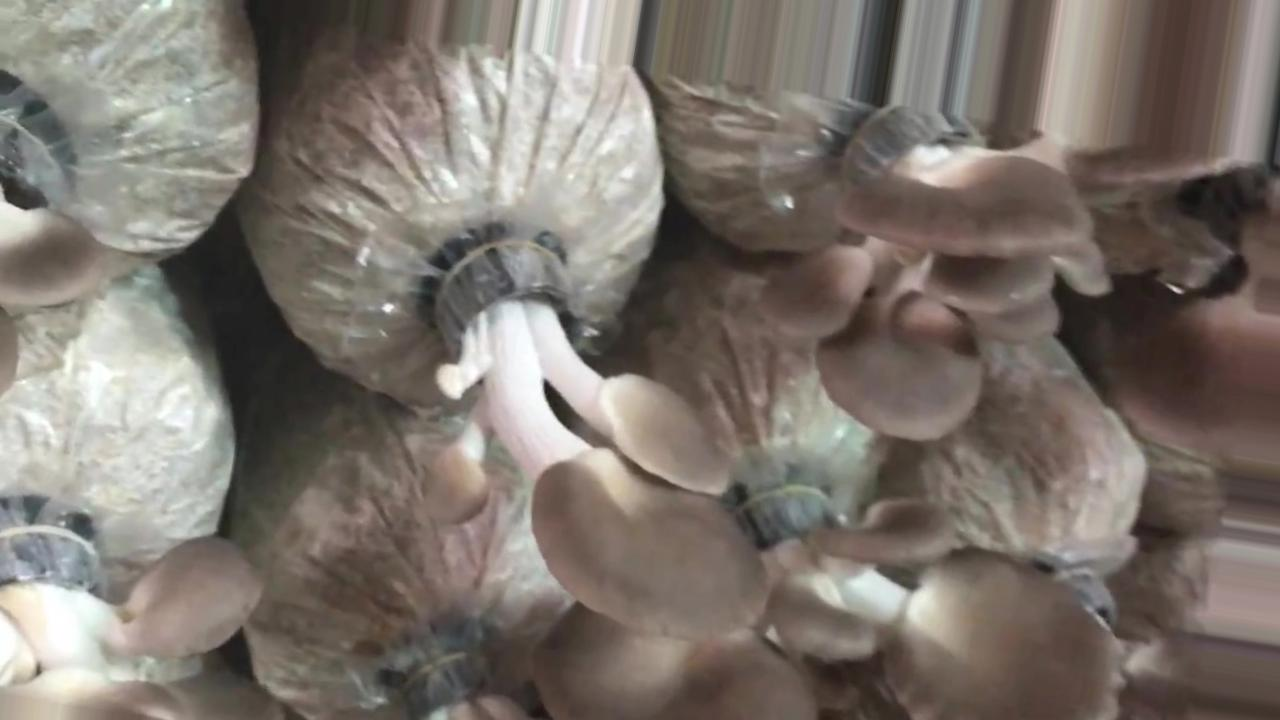nam: (541, 456, 1118, 718), (421, 241, 770, 635), (766, 106, 1098, 446), (1, 527, 299, 720), (1111, 207, 1280, 466)
